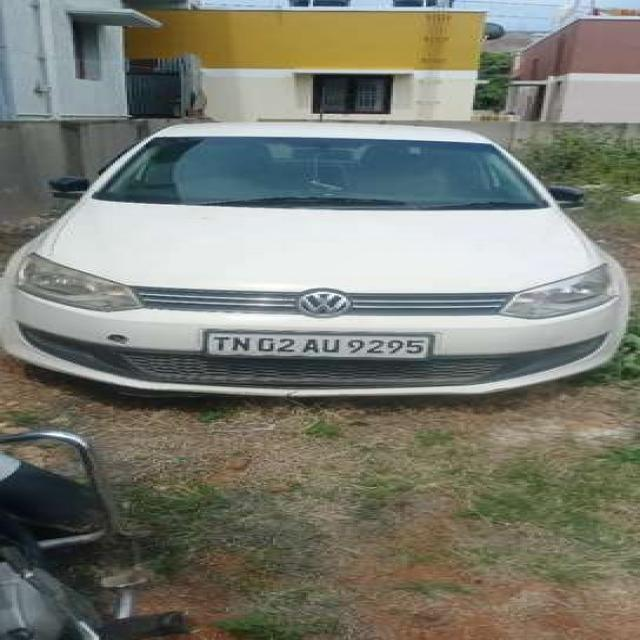Plate: (206, 332, 432, 358)
